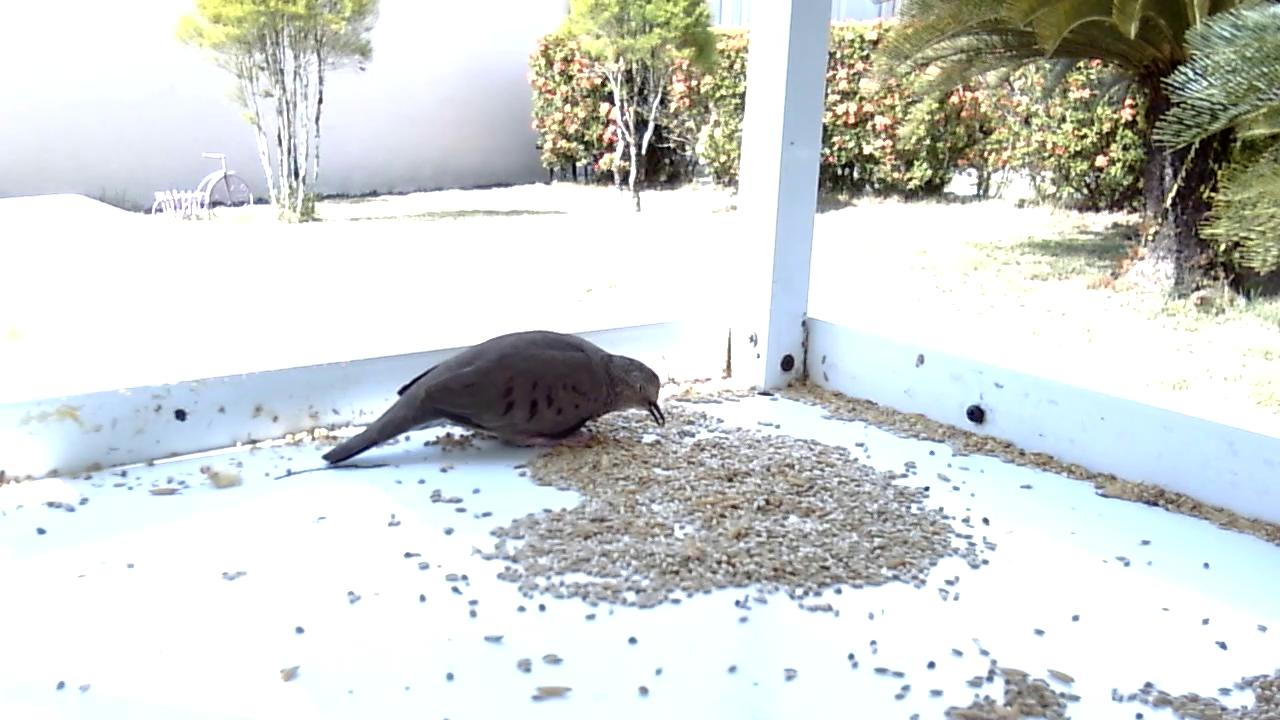rolinha: (321, 327, 670, 473)
